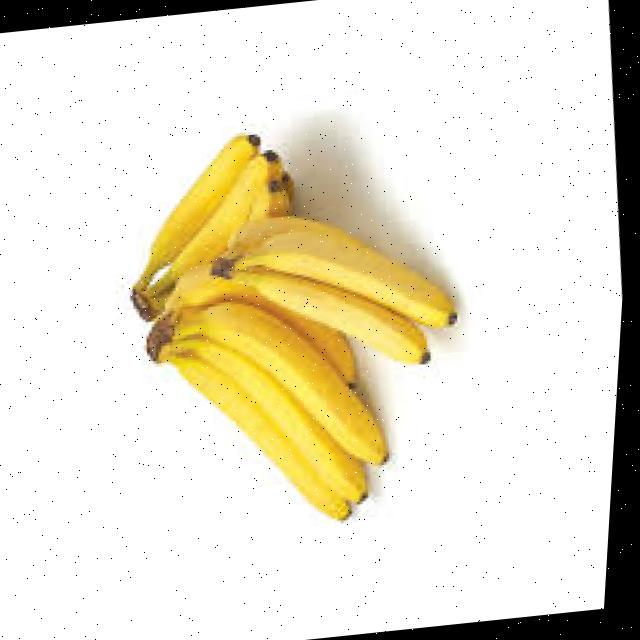Banana: (179, 301, 391, 464), (167, 336, 370, 501), (172, 356, 355, 520), (236, 216, 457, 327), (138, 134, 260, 289), (233, 267, 432, 362)
